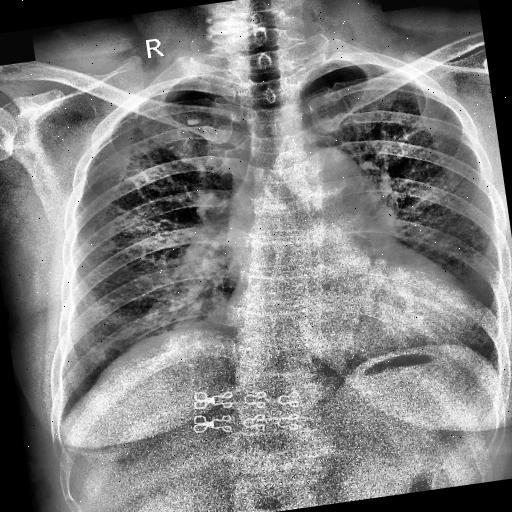0- Aortic enlargement: (278, 146, 370, 232), (284, 144, 368, 218), (280, 145, 366, 205)
2- Calcification: (186, 117, 201, 126)
3- Cardiomegaly: (220, 250, 491, 382), (218, 266, 493, 382), (212, 266, 486, 381)
7- Lung Opacity: (185, 116, 200, 125)
8- Nodule-Mass: (185, 119, 200, 126)
9- Other lesion: (185, 116, 200, 125)
